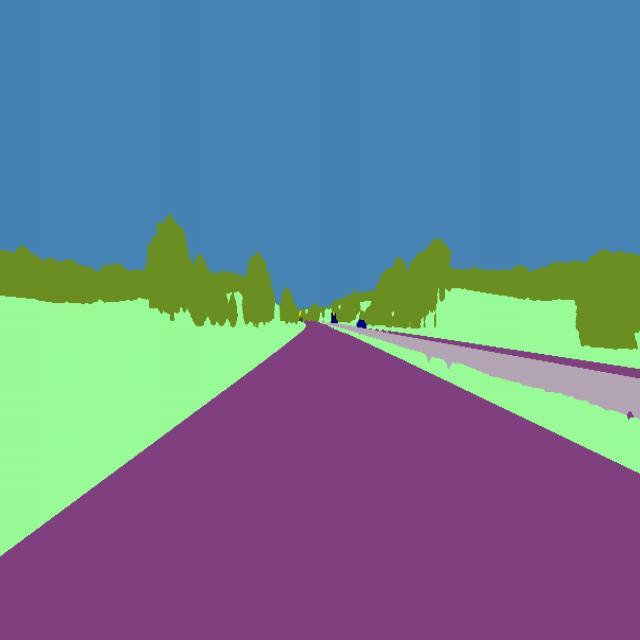safe: (354, 317, 369, 332)
